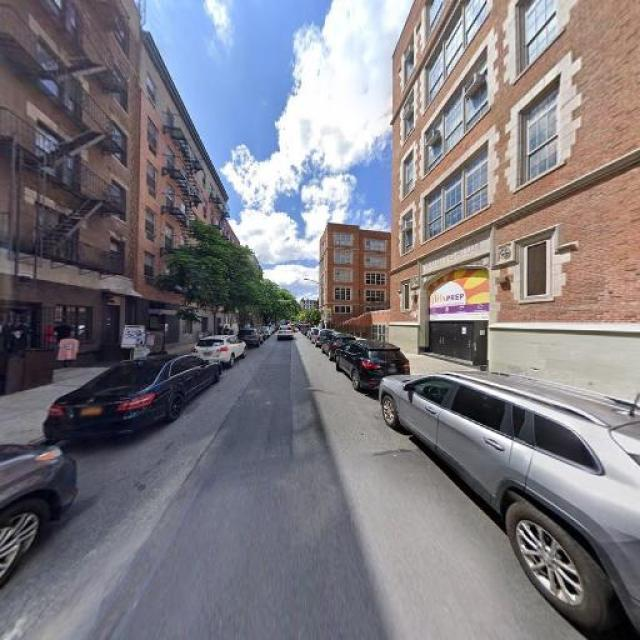Building: (393, 1, 640, 407), (1, 1, 137, 379)
